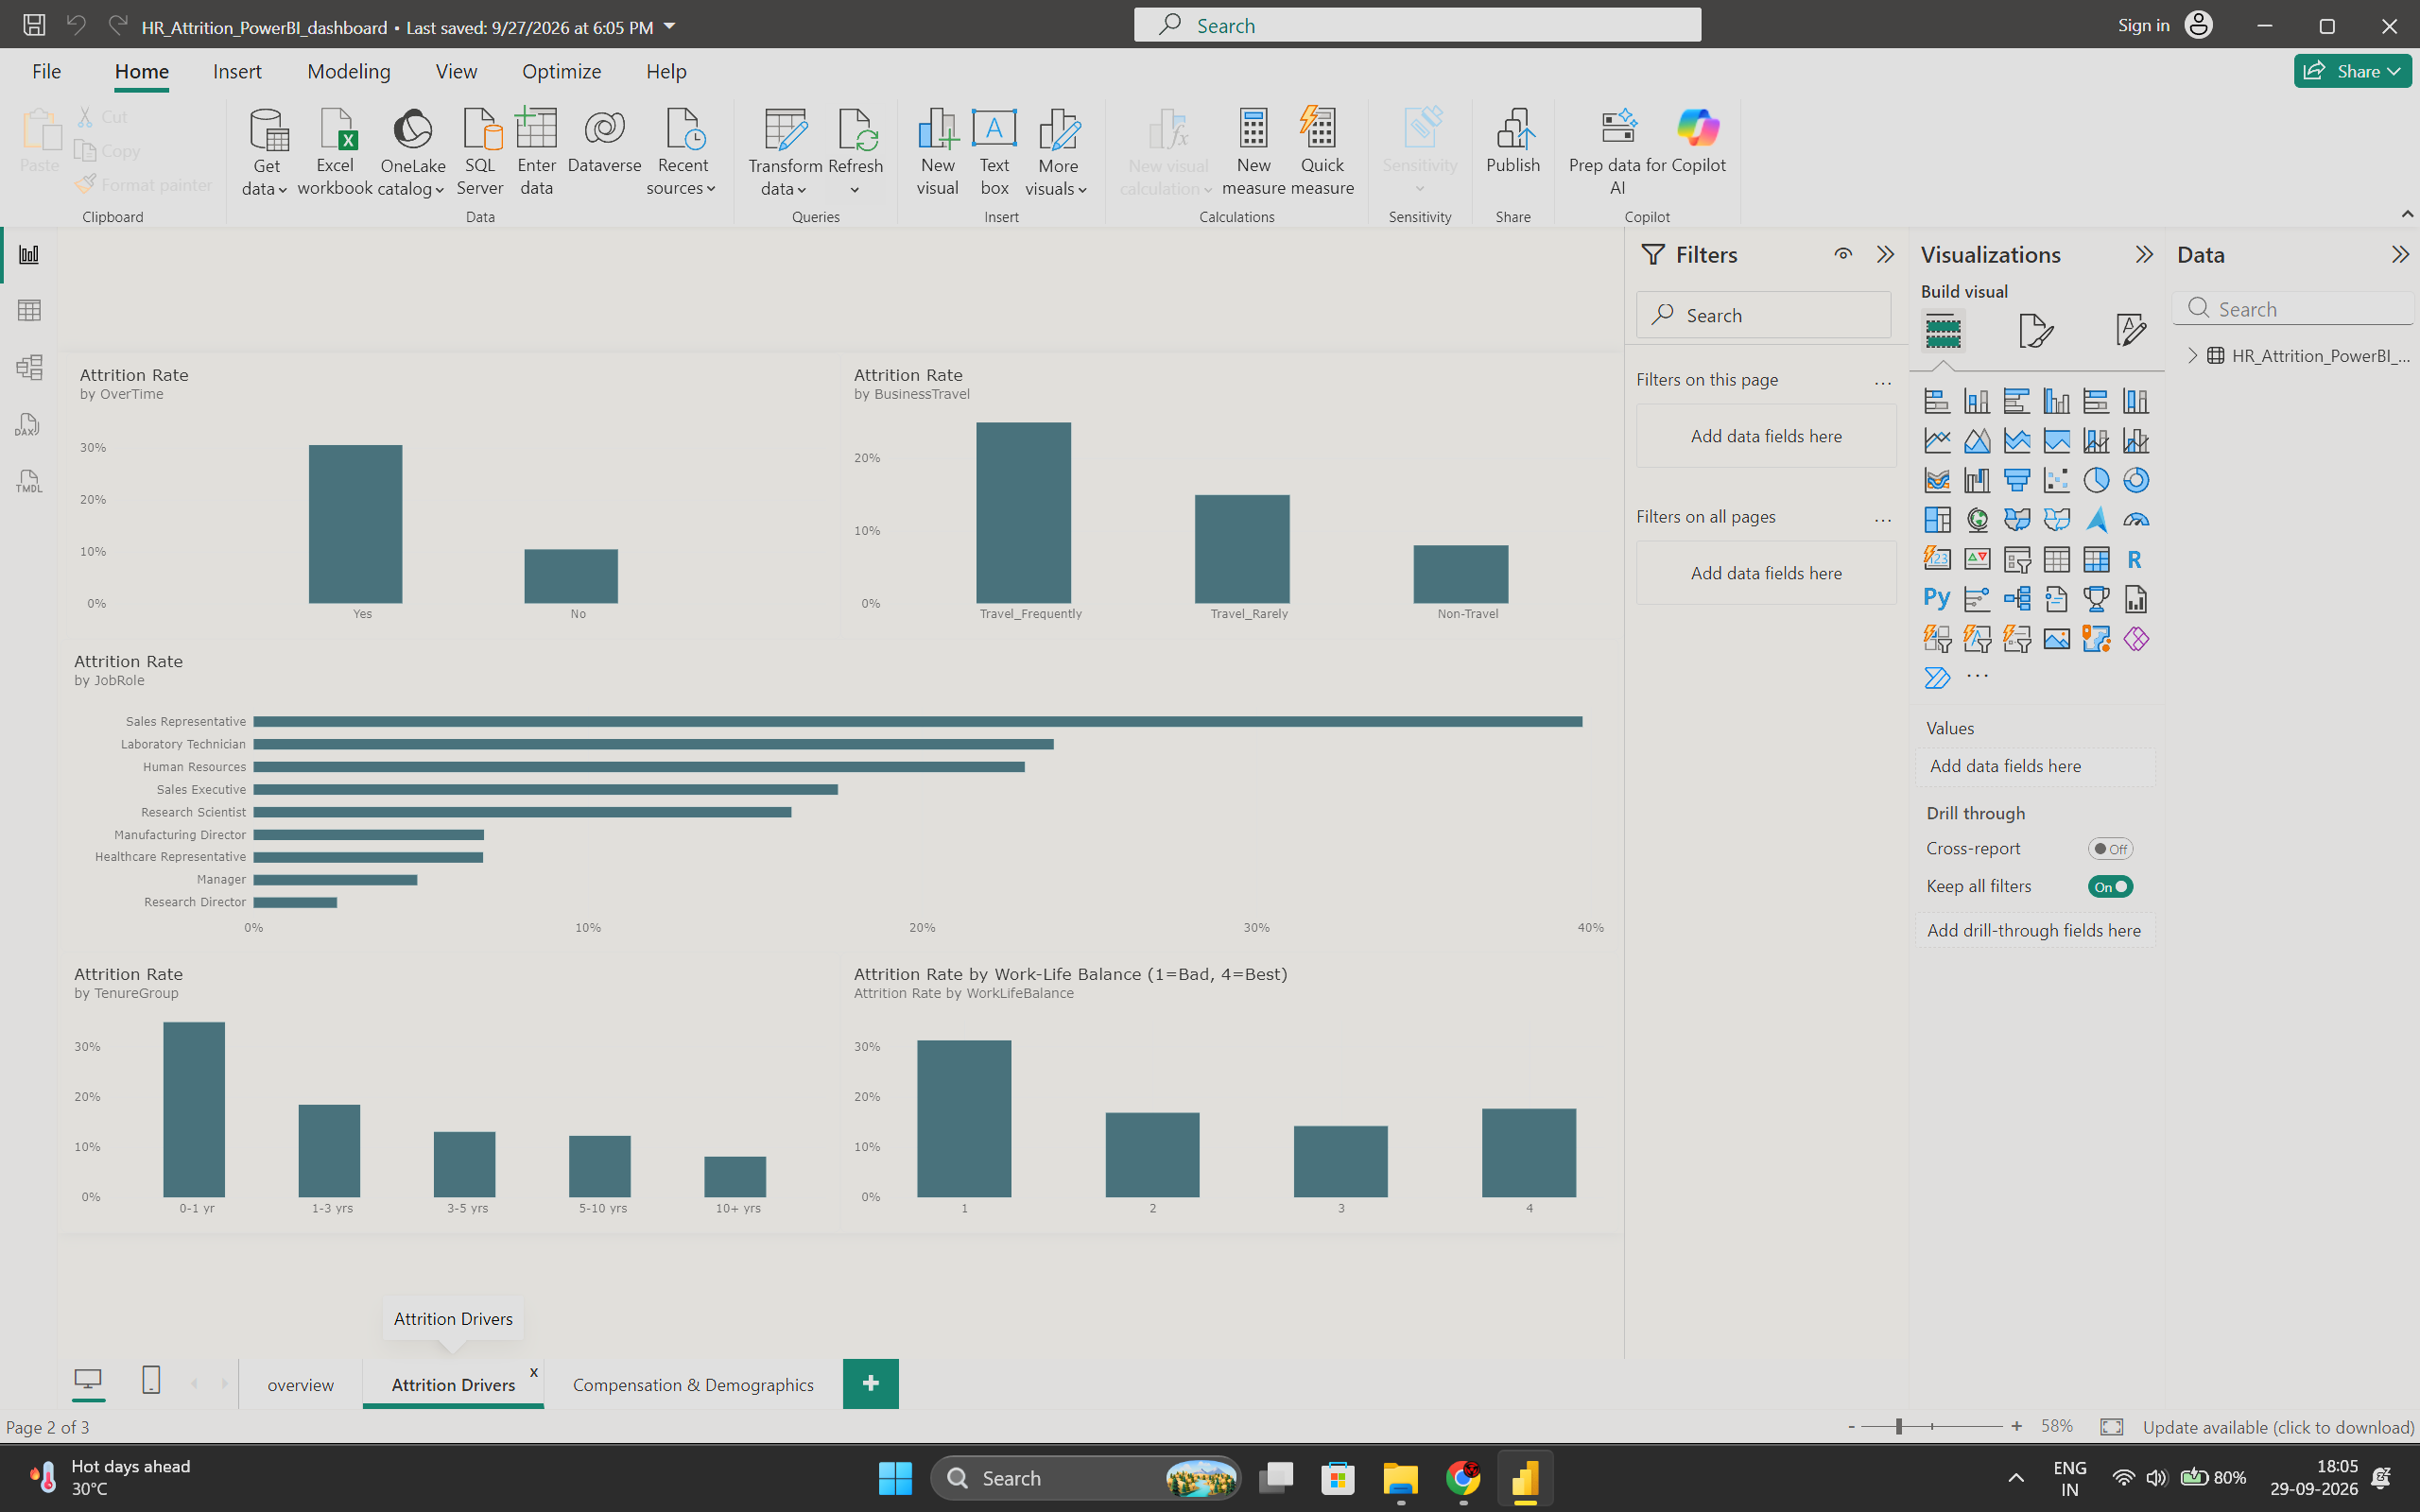

The page's visual inventory and layout, read from the dashboard file:
{"tool":"powerbi","page":{"name":"Attrition Drivers","canvas":[1920,1080],"ordinal":1},"visuals":[{"type":"clusteredColumnChart","fields":{"Category":["HR_Attrition_PowerBI_Ready.OverTime"],"Y":["HR_Attrition_PowerBI_Ready.Attrition Rate"]},"box":[10.4,0,949,351.1],"z":0},{"type":"clusteredColumnChart","fields":{"Category":["HR_Attrition_PowerBI_Ready.BusinessTravel"],"Y":["HR_Attrition_PowerBI_Ready.Attrition Rate"]},"box":[959.4,0,961.2,351.1],"z":1},{"type":"clusteredBarChart","fields":{"Category":["HR_Attrition_PowerBI_Ready.JobRole"],"Y":["HR_Attrition_PowerBI_Ready.Attrition Rate"]},"box":[3.5,351.1,1910.2,384.1],"z":2},{"type":"clusteredColumnChart","fields":{"Category":["HR_Attrition_PowerBI_Ready.TenureGroup"],"Y":["HR_Attrition_PowerBI_Ready.Attrition Rate"]},"box":[3.5,735.2,956,344.1],"z":3},{"type":"clusteredColumnChart","title":"Attrition Rate by Work-Life Balance (1=Bad, 4=Best)","fields":{"Category":["HR_Attrition_PowerBI_Ready.WorkLifeBalance"],"Y":["HR_Attrition_PowerBI_Ready.Attrition Rate"]},"box":[959.4,735.2,954.2,344.1],"z":4}]}

Visuals, with their boxes on the page's 1920x1080 design canvas (x1, y1, x2, y2). These are canvas units, not pixel positions in the 2420x1512 screenshot, which may show the page scaled, cropped or inside an application window:
clusteredColumnChart - HR_Attrition_PowerBI_Ready.OverTime x HR_Attrition_PowerBI_Ready.Attrition Rate: (10, 0, 959, 351)
clusteredColumnChart - HR_Attrition_PowerBI_Ready.BusinessTravel x HR_Attrition_PowerBI_Ready.Attrition Rate: (959, 0, 1921, 351)
clusteredBarChart - HR_Attrition_PowerBI_Ready.JobRole x HR_Attrition_PowerBI_Ready.Attrition Rate: (4, 351, 1914, 735)
clusteredColumnChart - HR_Attrition_PowerBI_Ready.TenureGroup x HR_Attrition_PowerBI_Ready.Attrition Rate: (4, 735, 960, 1079)
"Attrition Rate by Work-Life Balance (1=Bad, 4=Best)" clusteredColumnChart: (959, 735, 1914, 1079)
